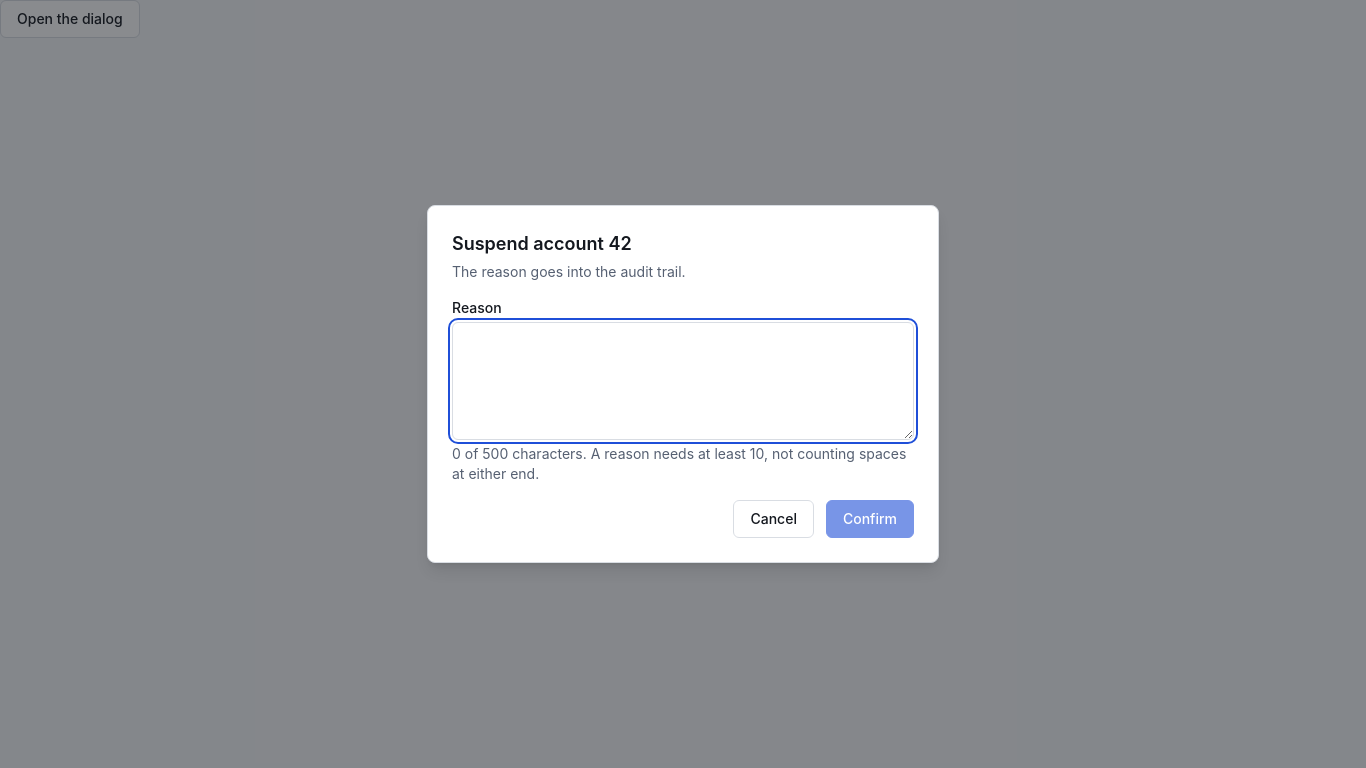
Test: ReasonDialog › uses the heading the caller gave for a known error code
Type "Twelve accounts share this fingerprint." into the text box labelled "Reason".
click(683, 381); type("Twelve accounts share this fingerprint.")  # box [452,322,914,440]
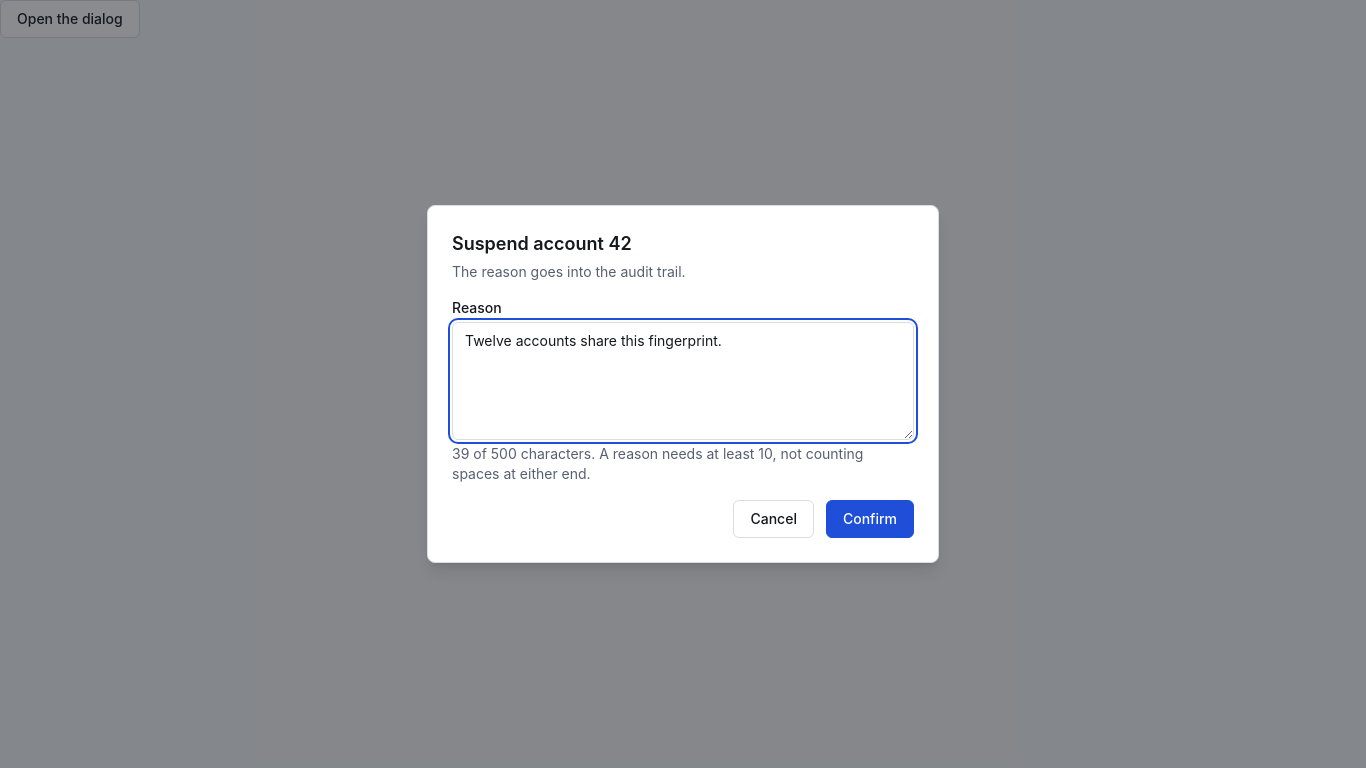
Click the button "Confirm".
click(870, 519)  # box [826,500,914,538]
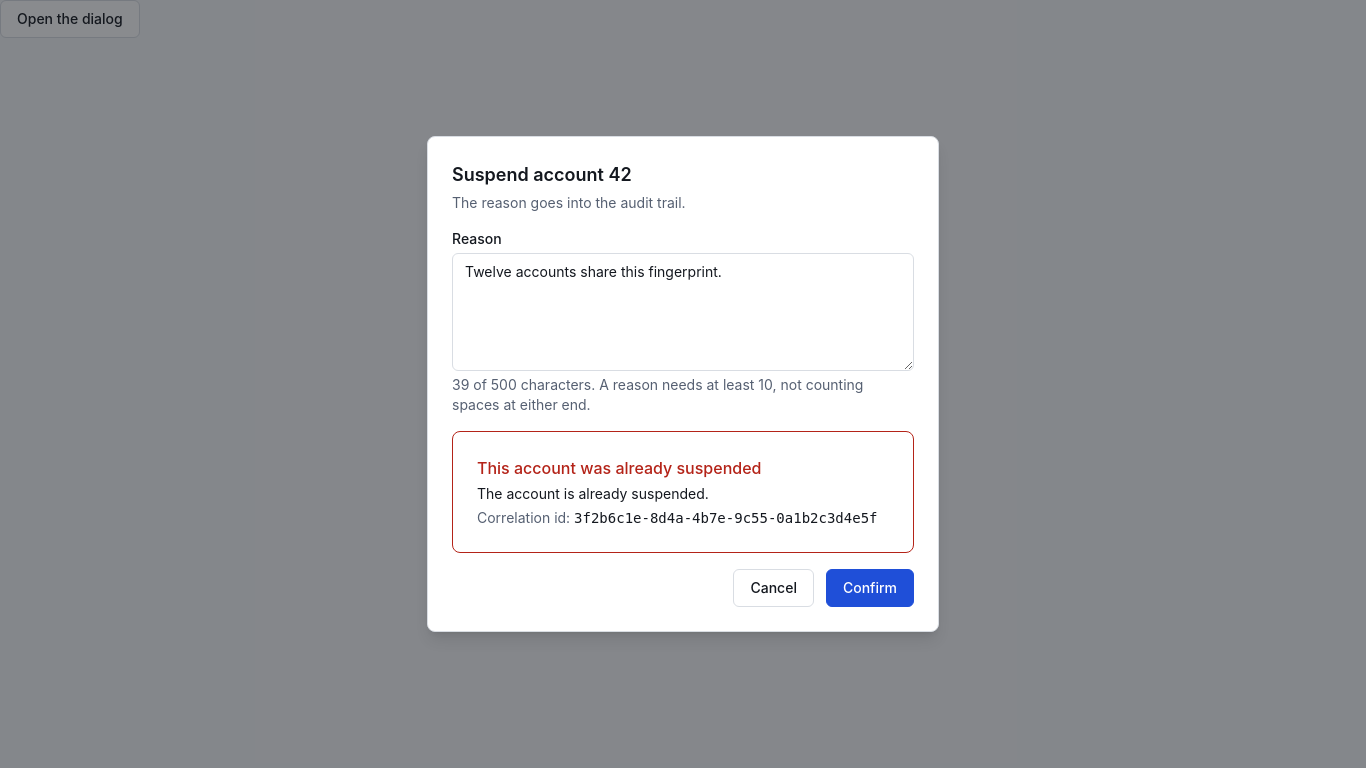
Now the message shows "This account was already suspended", box [477,458,762,478]
Now the message shows "3f2b6c1e-8d4a-4b7e-9c55-0a1b2c3d4e5f", box [574,510,878,526]
